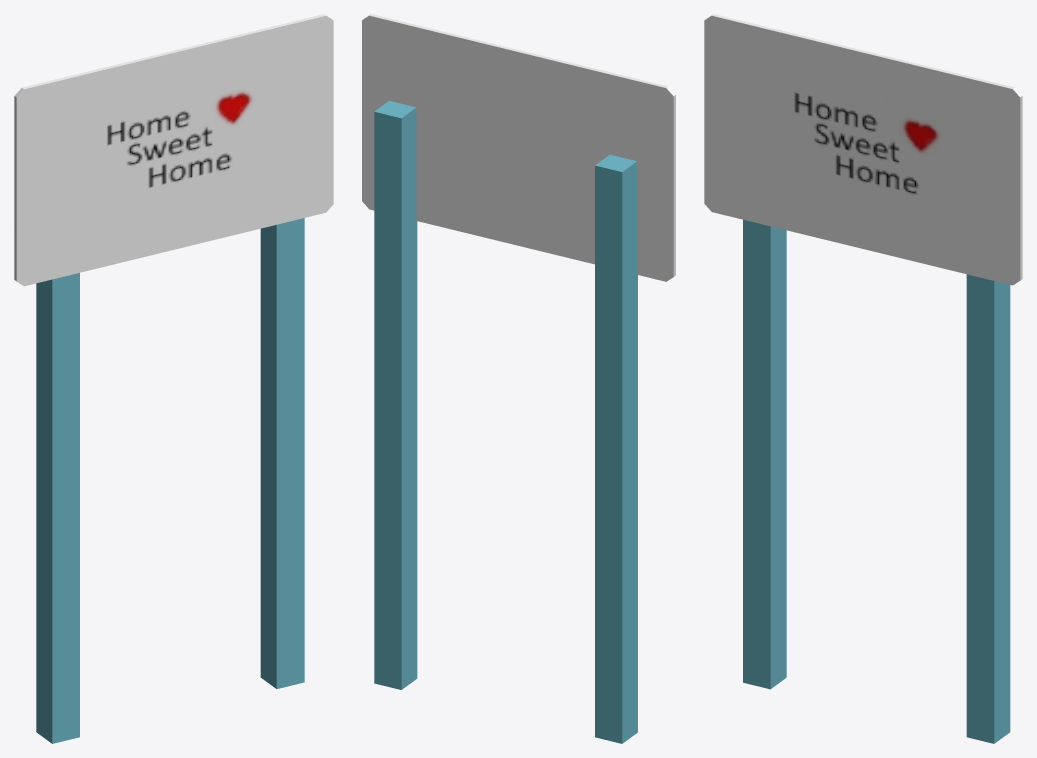
Rendered from homesign.obj.
The picture shows the model from 3 angles, left to right: view 1: azimuth 30°, elevation 25°; view 2: azimuth 150°, elevation 25°; view 3: azimuth 330°, elevation 25°; orthographic projection.
Parts seen in each view (by area): view 1: Box001, Box003; view 2: Box001, Box003; view 3: Box001, Box003.
Part boxes in pixels (left/top/right/bottom): Box001: left=14, top=14, right=333, bottom=286; Box003: left=36, top=218, right=304, bottom=743; Box001: left=362, top=14, right=675, bottom=281; Box003: left=374, top=101, right=637, bottom=743; Box001: left=704, top=14, right=1022, bottom=285; Box003: left=743, top=219, right=1010, bottom=743.
Bounding box in the file's own units: 0.5702 × 1.14 × 0.0547.
2 materials, 2 textured.
